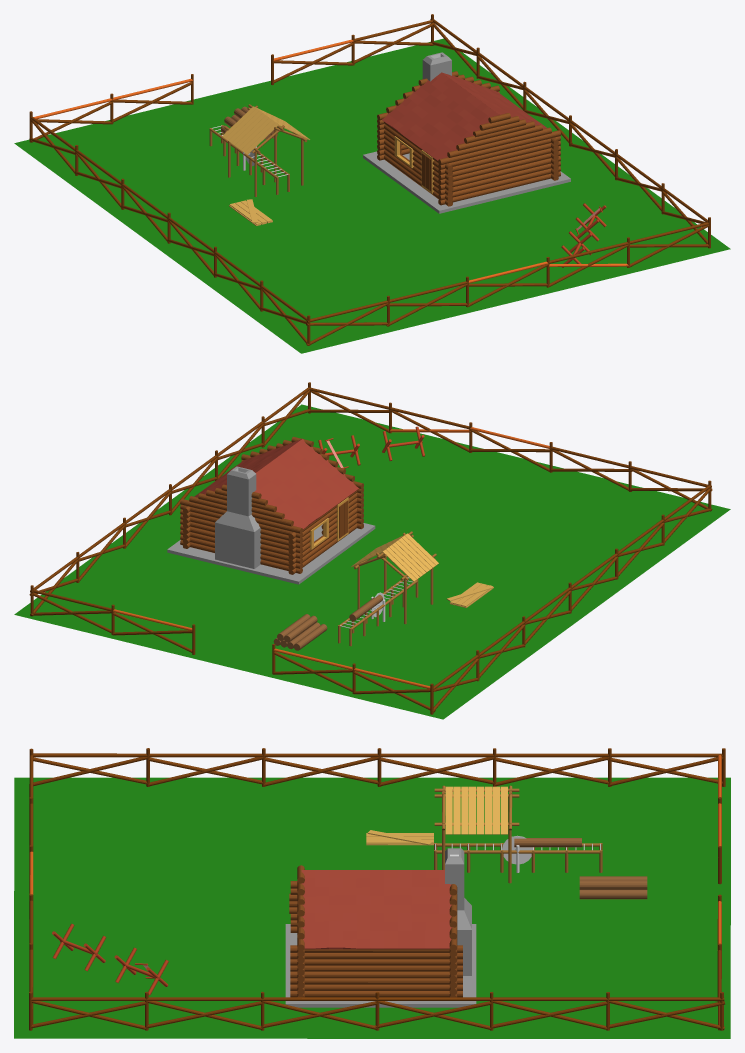
File: SawmillAge2.fbx
The picture shows the model from 3 angles, top to bottom: view 1: azimuth 30°, elevation 25°; view 2: azimuth 150°, elevation 25°; view 3: azimuth 270°, elevation 25°; orthographic projection. The views are drawn at different scales.
Parts seen in each view (by area): view 1: Plane.028, Cube.337, Cube.335, Cube.338, Cylinder.427, Cylinder.403, Cube.336, Cylinder.405, Cylinder.400, Cylinder.401, Cylinder.404, Cylinder.386 (+3 smaller); view 2: Plane.028, Cube.337, Cube.336, Cube.335, Cube.338; view 3: Plane.028, Cube.338, Cube.335, Cube.336, Cylinder.411, Cylinder.412, Cylinder.409, Cylinder.413, Cylinder.410, Cylinder.408, Cylinder.414, Cylinder.343 (+32 smaller).
Boxes of the visible parts, bbox=[...] form: Plane.028: bbox=[14, 38, 730, 353]; Cube.337: bbox=[382, 72, 499, 160]; Cube.335: bbox=[363, 151, 570, 213]; Cube.338: bbox=[442, 72, 546, 128]; Cylinder.427: bbox=[438, 130, 560, 165]; Cylinder.403: bbox=[438, 156, 560, 190]; Cube.336: bbox=[422, 52, 451, 81]; Cylinder.405: bbox=[438, 166, 560, 200]; Cylinder.400: bbox=[438, 141, 560, 174]; Cylinder.401: bbox=[438, 146, 560, 179]; Cylinder.404: bbox=[438, 161, 560, 195]; Cylinder.386: bbox=[447, 127, 551, 157]; Plane.028: bbox=[14, 404, 730, 719]; Cube.337: bbox=[254, 439, 358, 529]; Cube.336: bbox=[215, 466, 261, 568]; Cube.335: bbox=[167, 523, 375, 584]; Cube.338: bbox=[194, 439, 301, 497]; Plane.028: bbox=[14, 777, 730, 1038]; Cube.338: bbox=[301, 870, 452, 949]; Cube.335: bbox=[285, 924, 476, 1007]; Cube.336: bbox=[445, 848, 471, 975]; Cylinder.411: bbox=[290, 971, 462, 978]; Cylinder.412: bbox=[290, 978, 462, 984]; Cylinder.409: bbox=[290, 959, 462, 965]; Cylinder.413: bbox=[290, 984, 462, 990]; Cylinder.410: bbox=[290, 965, 462, 971]; Cylinder.408: bbox=[290, 953, 462, 959]; Cylinder.414: bbox=[290, 991, 462, 997]; Cylinder.343: bbox=[579, 889, 647, 899].
Bounding box in the file's own units: 813 × 171 × 943.
